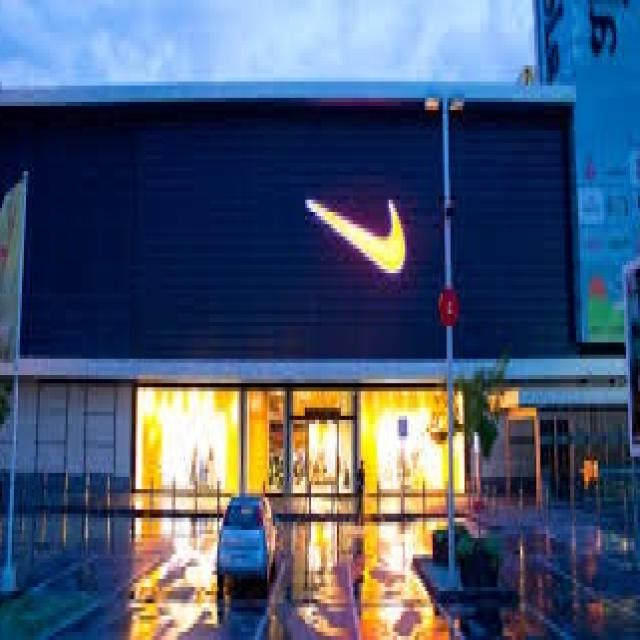nike: (304, 186, 416, 290)
